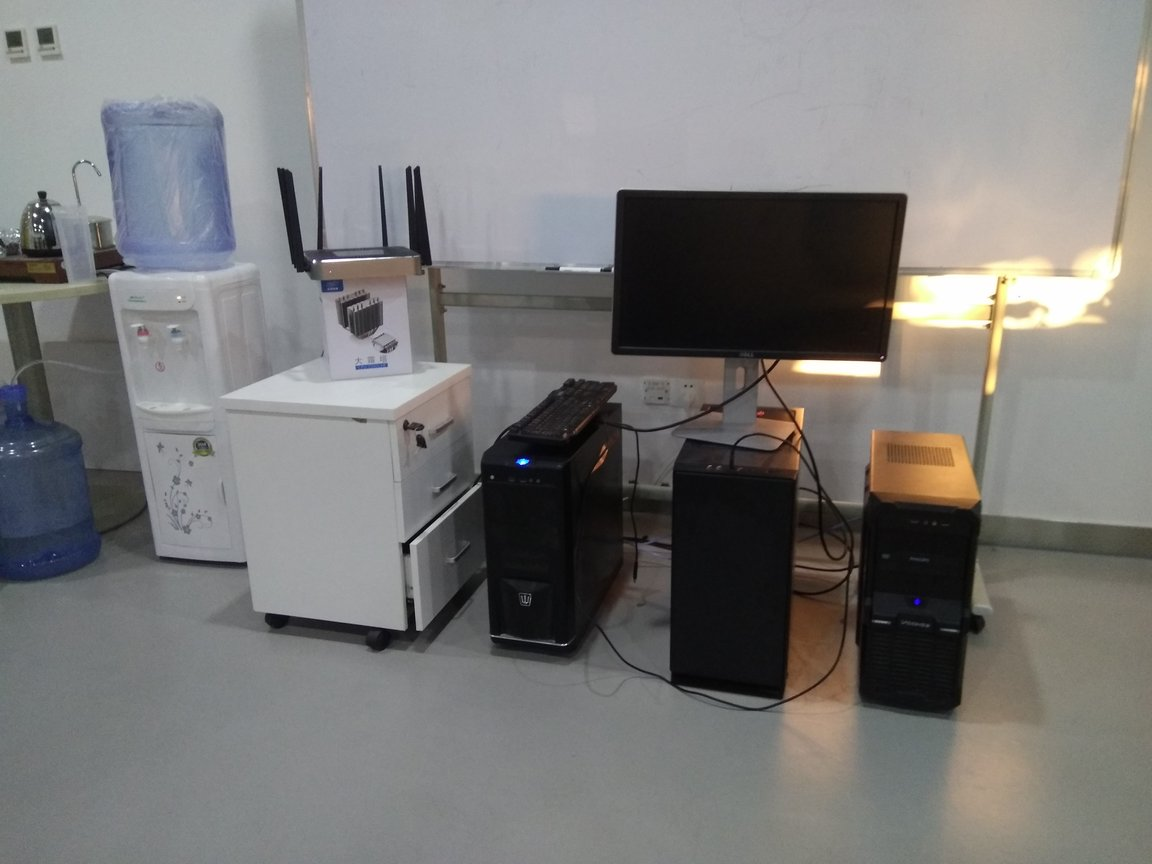computer: (662, 399, 803, 711), (476, 399, 627, 666), (860, 428, 974, 712)
drawer chest: (220, 358, 481, 661)
monitor: (608, 187, 911, 452)
scuttlebutt: (96, 97, 247, 273), (1, 387, 99, 598)
water dispenser: (105, 261, 276, 592)
